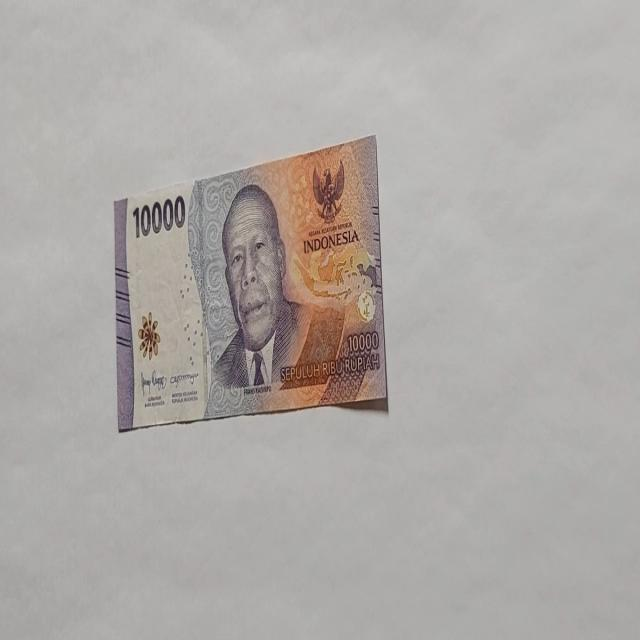sepuluh ribu rupiah: (113, 132, 389, 432)
